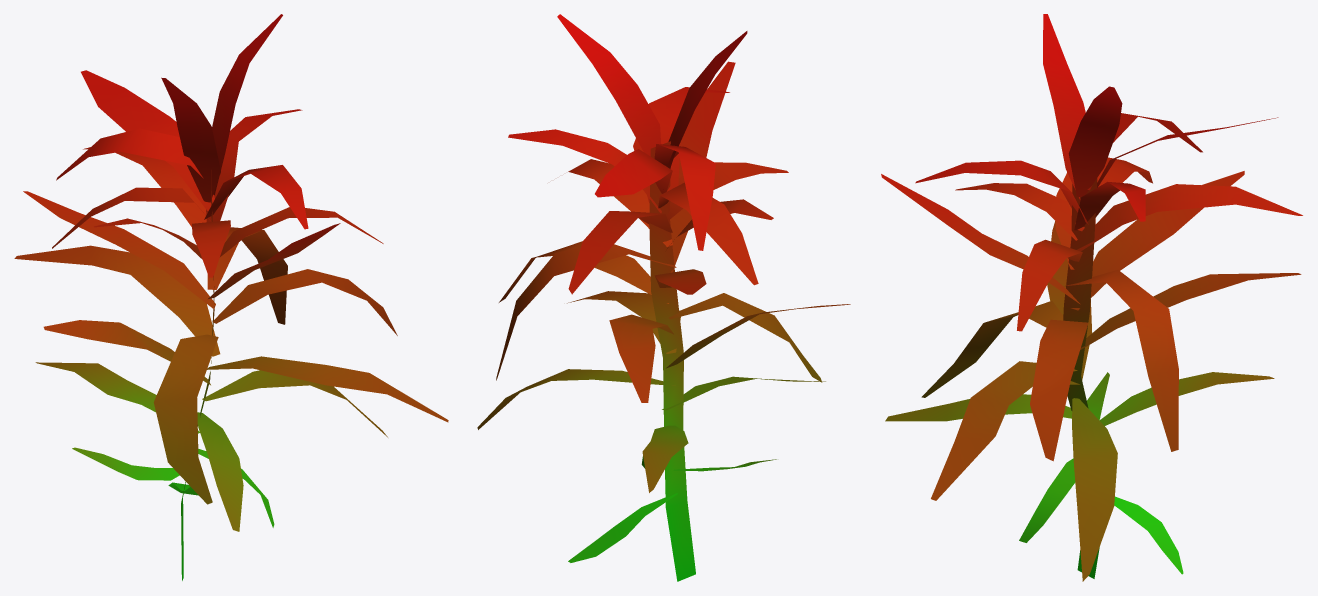
The model's file is Butterfly Weed_LOD3_Var13.fbx.
3 renders of one model, left to right at view 1: azimuth 30°, elevation 25°; view 2: azimuth 150°, elevation 25°; view 3: azimuth 270°, elevation 25°, orthographic. The views are drawn at different scales.
Visible parts, largest first — view 1: _nvao_Var13_LOD3; view 2: _nvao_Var13_LOD3; view 3: _nvao_Var13_LOD3.
Boxes of the visible parts, left/top/right/bottom form: _nvao_Var13_LOD3: left=14, top=14, right=448, bottom=580; _nvao_Var13_LOD3: left=477, top=14, right=850, bottom=581; _nvao_Var13_LOD3: left=881, top=14, right=1302, bottom=581.
Bounding box in the file's own units: 28.29 × 40.57 × 28.46.
